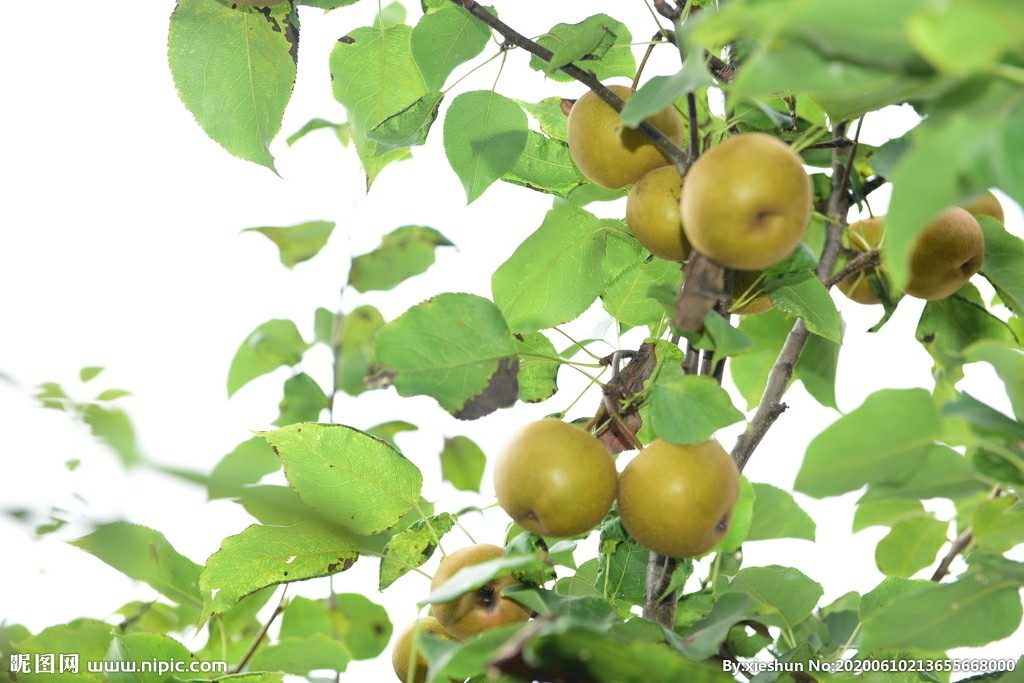pear: (680, 131, 812, 270), (493, 417, 616, 537), (617, 439, 739, 555), (568, 84, 679, 186), (428, 545, 534, 645), (891, 205, 983, 300), (625, 161, 701, 259)
